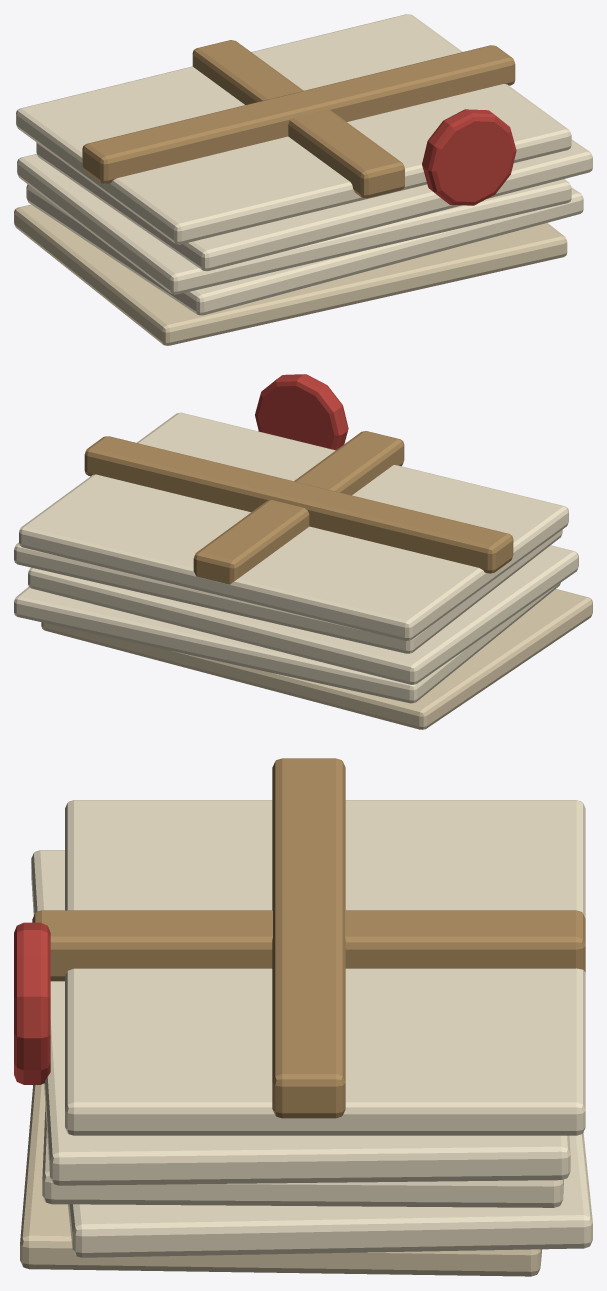
Rendered from economy_cargo_paper_v01.glb.
3 renders of one model, top to bottom at view 1: azimuth 30°, elevation 25°; view 2: azimuth 150°, elevation 25°; view 3: azimuth 270°, elevation 25°, orthographic. The views are drawn at different scales.
Visible parts, largest first — view 1: GEO_PaperSheet_4, GEO_PaperSheet_0, GEO_PaperBindingY, GEO_PaperSheet_2, GEO_PaperSheet_3, GEO_PaperSheet_1, GEO_PaperBindingX, GEO_PaperSeal; view 2: GEO_PaperSheet_4, GEO_PaperBindingY, GEO_PaperSheet_2, GEO_PaperSheet_0, GEO_PaperSheet_1, GEO_PaperBindingX, GEO_PaperSheet_3, GEO_PaperSeal; view 3: GEO_PaperSheet_4, GEO_PaperSheet_3, GEO_PaperBindingX, GEO_PaperBindingY, GEO_PaperSheet_1, GEO_PaperSheet_0, GEO_PaperSheet_2, GEO_PaperSeal.
Boxes of the visible parts, <box> form: GEO_PaperSheet_4: <box>16,14,571,244</box>; GEO_PaperSheet_0: <box>14,204,567,345</box>; GEO_PaperBindingY: <box>82,45,515,183</box>; GEO_PaperSheet_2: <box>17,154,571,294</box>; GEO_PaperSheet_3: <box>36,139,592,271</box>; GEO_PaperSheet_1: <box>26,184,583,315</box>; GEO_PaperBindingX: <box>192,40,404,198</box>; GEO_PaperSeal: <box>422,109,516,205</box>; GEO_PaperSheet_4: <box>19,412,568,640</box>; GEO_PaperBindingY: <box>84,436,513,573</box>; GEO_PaperSheet_2: <box>28,545,578,684</box>; GEO_PaperSheet_0: <box>41,589,592,729</box>; GEO_PaperSheet_1: <box>14,583,560,703</box>; GEO_PaperBindingX: <box>193,431,404,584</box>; GEO_PaperSheet_3: <box>14,530,562,653</box>; GEO_PaperSeal: <box>255,374,348,450</box>; GEO_PaperSheet_4: <box>65,800,585,1135</box>; GEO_PaperSheet_3: <box>31,850,570,1185</box>; GEO_PaperBindingX: <box>32,910,585,981</box>; GEO_PaperBindingY: <box>272,758,345,1118</box>; GEO_PaperSheet_1: <box>68,1132,592,1257</box>; GEO_PaperSheet_0: <box>20,1083,541,1276</box>; GEO_PaperSheet_2: <box>42,1106,563,1207</box>; GEO_PaperSeal: <box>14,922,50,1084</box>.
Bounding box in the file's own units: 0.9784 × 0.3625 × 0.7113.
